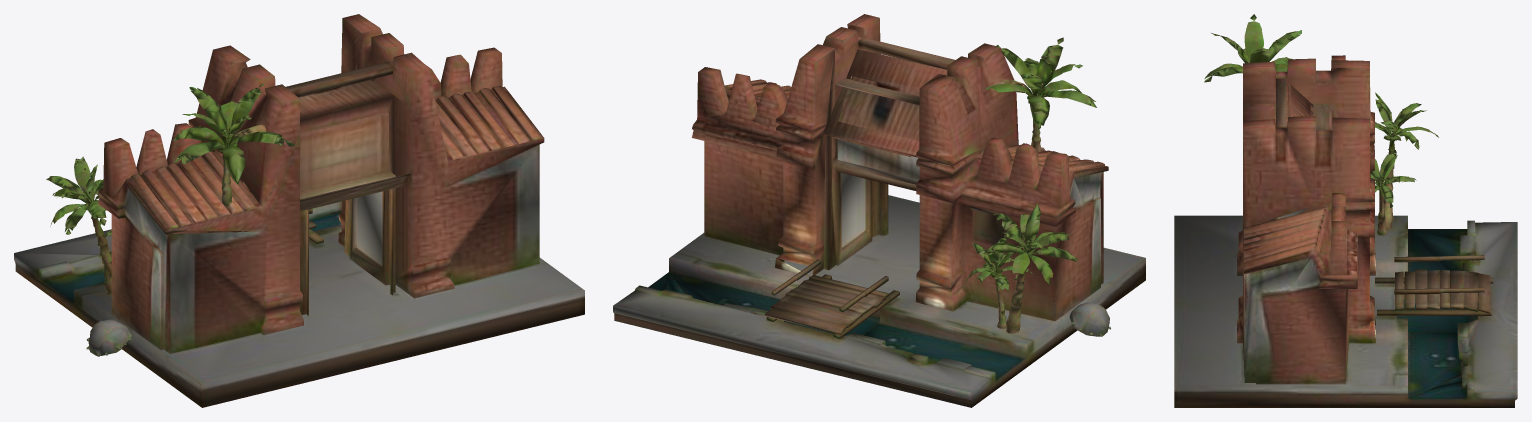
Rendered from lm_tha_phae.glb.
The picture shows the model from 3 angles, left to right: view 1: azimuth 30°, elevation 25°; view 2: azimuth 150°, elevation 25°; view 3: azimuth 270°, elevation 25°; orthographic projection. The views are drawn at different scales.
Parts seen in each view (by area): view 1: Body; view 2: Body; view 3: Body.
Boxes of the visible parts, bbox=[...] form: Body: bbox=[14, 14, 584, 407]; Body: bbox=[613, 14, 1145, 407]; Body: bbox=[1174, 14, 1517, 407].
Size of the model in its own units: 30 by 17.73 by 23.19.
1 material, 1 textured.
